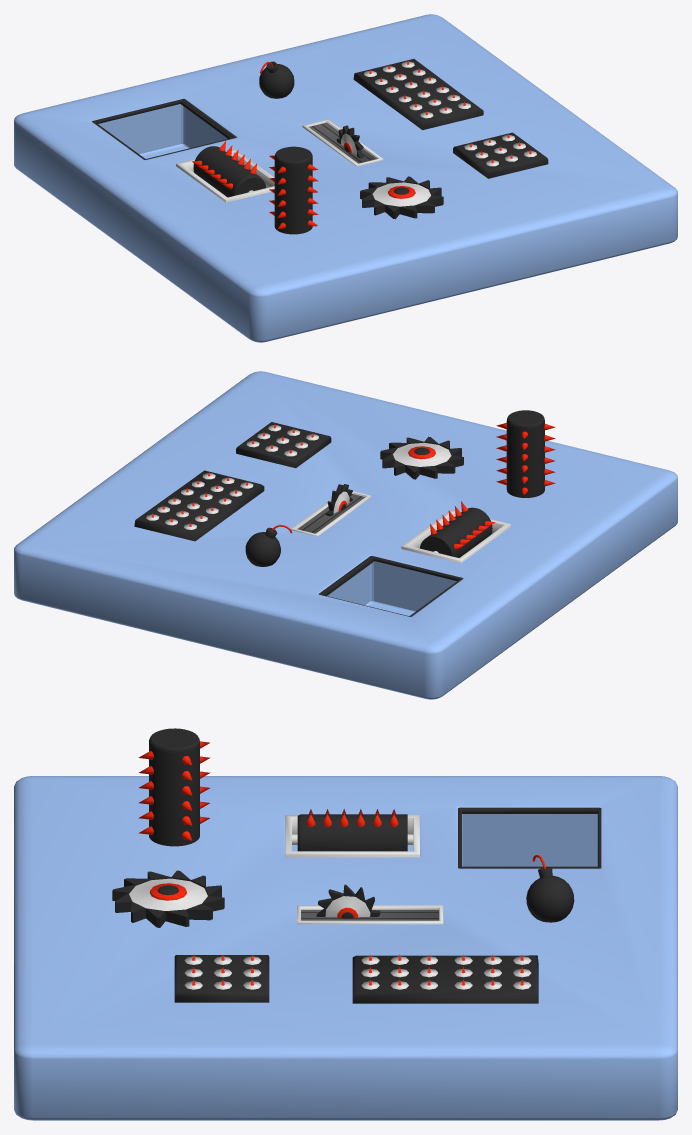
The model's file is HyperObstaclesSketchfab 1.fbx.
3 views of the same model, one above another, from view 1: azimuth 30°, elevation 25°; view 2: azimuth 150°, elevation 25°; view 3: azimuth 270°, elevation 25° (orthographic). The views are drawn at different scales.
Parts seen in each view (by area): view 1: PlatformBG, spike-obstacle.001, CylinderObstacle, spike-obstacle, gear-base, CylinderObstacle.001, SpikeBase, SpiralBase, Bomb, GridGround, gear-base.001; view 2: PlatformBG, spike-obstacle.001, CylinderObstacle, spike-obstacle, gear-base, CylinderObstacle.001, SpikeBase, SpiralBase, Bomb, GridGround, gear-base.001; view 3: PlatformBG, spike-obstacle.001, CylinderObstacle, gear-base, spike-obstacle, CylinderObstacle.001, SpikeBase, Bomb, GridGround, SpiralBase, gear-base.001.
Part boxes in pixels (<box>): PlatformBG: <box>14,14,677,342</box>; spike-obstacle.001: <box>353,59,483,130</box>; CylinderObstacle: <box>269,146,318,234</box>; spike-obstacle: <box>453,132,548,178</box>; gear-base: <box>360,176,443,219</box>; CylinderObstacle.001: <box>192,140,266,197</box>; SpikeBase: <box>302,119,383,166</box>; SpiralBase: <box>176,149,274,202</box>; Bomb: <box>259,61,294,98</box>; GridGround: <box>92,98,236,159</box>; gear-base.001: <box>336,125,363,158</box>; PlatformBG: <box>14,371,677,699</box>; spike-obstacle.001: <box>134,470,264,541</box>; CylinderObstacle: <box>496,410,555,497</box>; spike-obstacle: <box>236,422,331,468</box>; gear-base: <box>380,436,463,479</box>; CylinderObstacle.001: <box>419,501,495,557</box>; SpikeBase: <box>291,491,371,536</box>; SpiralBase: <box>401,509,510,563</box>; Bomb: <box>245,524,292,566</box>; GridGround: <box>318,556,463,616</box>; gear-base.001: <box>325,484,352,516</box>; PlatformBG: <box>14,776,677,1120</box>; spike-obstacle.001: <box>352,955,538,1003</box>; CylinderObstacle: <box>138,728,210,846</box>; gear-base: <box>112,870,224,927</box>; spike-obstacle: <box>174,955,269,1002</box>; CylinderObstacle.001: <box>297,809,407,851</box>; SpikeBase: <box>297,905,443,924</box>; Bomb: <box>526,855,574,922</box>; GridGround: <box>458,807,601,868</box>; SpiralBase: <box>285,815,419,857</box>; gear-base.001: <box>316,884,380,918</box>.
Bounding box in the file's own units: 1650 × 467 × 1650.
